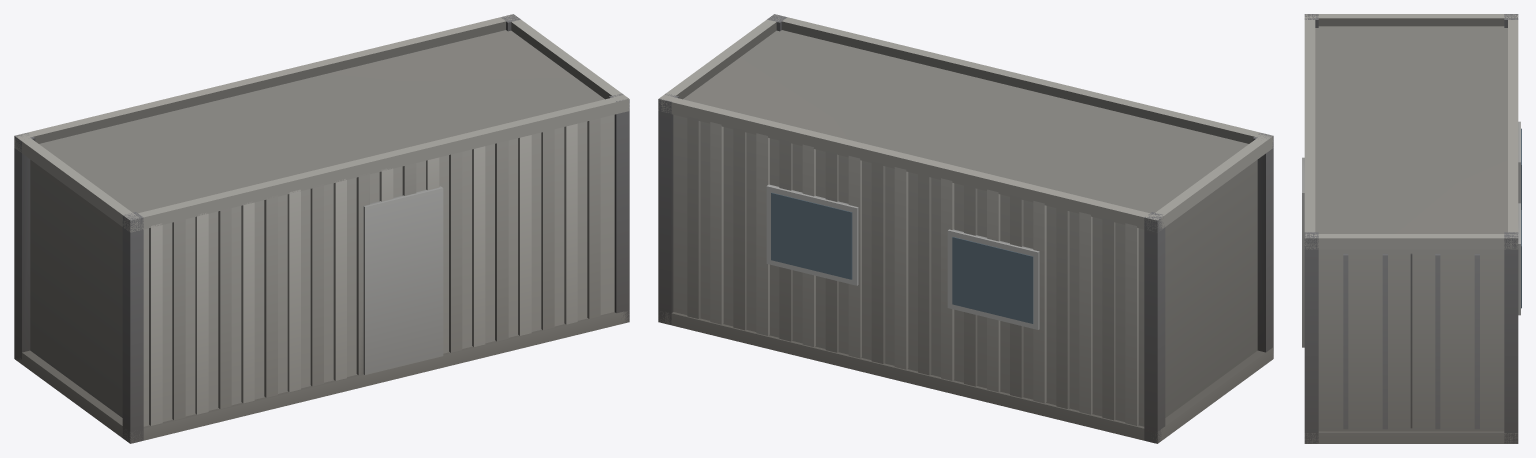
File: box_office.glb
3 renders of one model, left to right at view 1: azimuth 30°, elevation 25°; view 2: azimuth 150°, elevation 25°; view 3: azimuth 270°, elevation 25°, orthographic. The views are drawn at different scales.
Parts seen in each view (by area): view 1: box_office; view 2: box_office; view 3: box_office.
Boxes of the visible parts, x1,y1,x2,y2 form: box_office: (14, 14, 629, 443); box_office: (658, 14, 1273, 443); box_office: (1302, 14, 1521, 443).
Bounding box in the file's own units: 6.09 × 2.59 × 2.51.
